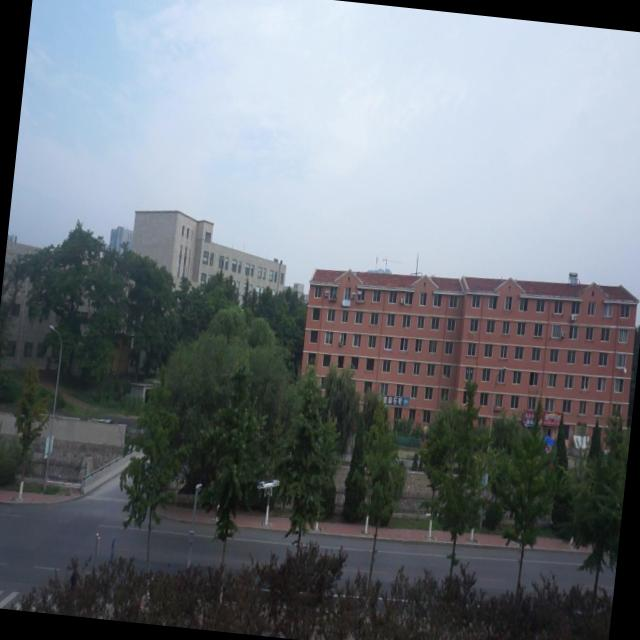drone: (252, 470, 284, 503)
